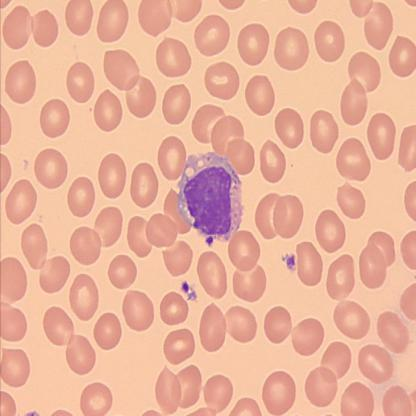Atypical lymphocyte: (178, 152, 245, 249)
